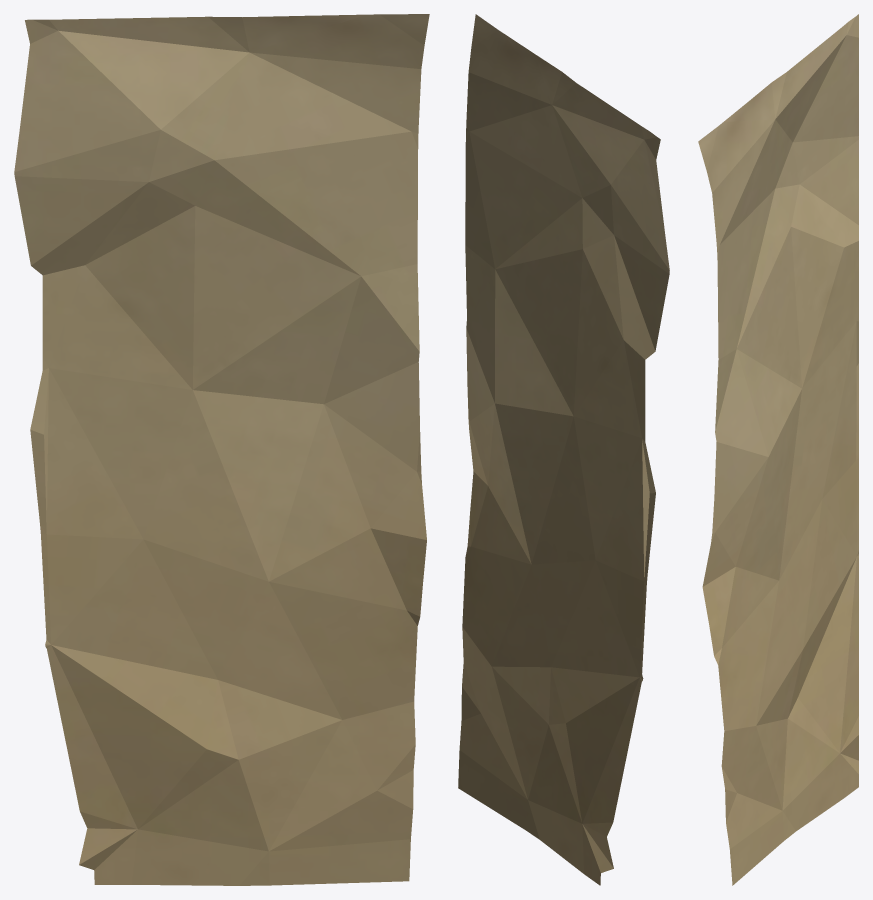
3 renders of one model, left to right at view 1: azimuth 30°, elevation 25°; view 2: azimuth 150°, elevation 25°; view 3: azimuth 270°, elevation 25°, orthographic. The views are drawn at different scales.
Bounding box in the file's own units: 0.318 × 0.8373 × 0.1638.
Materials: 1 (1 with a texture image).
